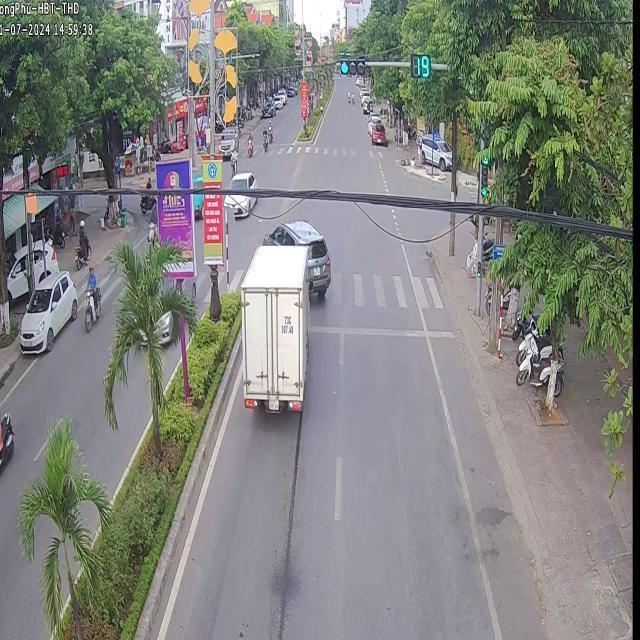car: (238, 245, 307, 415), (263, 218, 330, 296), (223, 171, 254, 214), (233, 194, 255, 200)
green_light: (338, 56, 364, 74), (479, 154, 487, 199)
stop_line: (308, 323, 454, 336)
